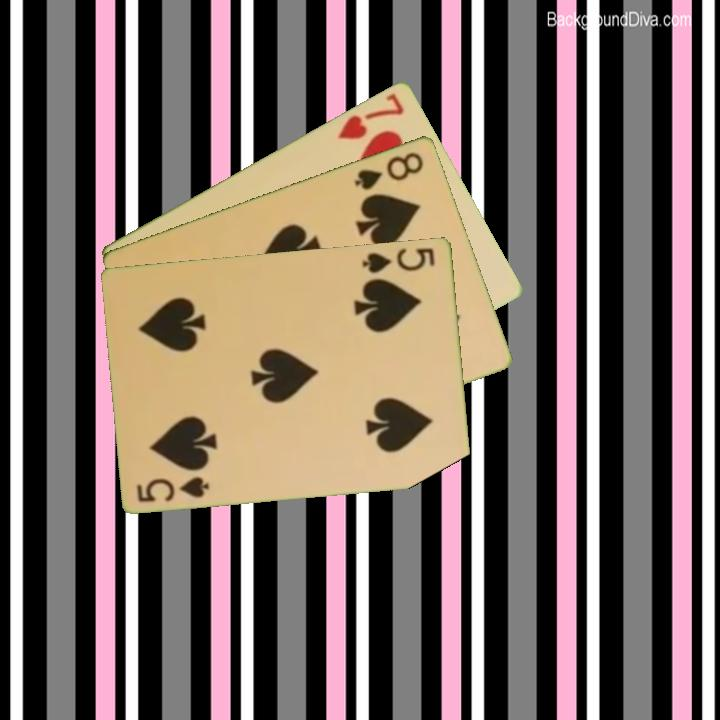5s: (133, 473, 213, 505), (359, 243, 438, 275)
7h: (334, 88, 408, 142)
8s: (351, 147, 427, 193)
